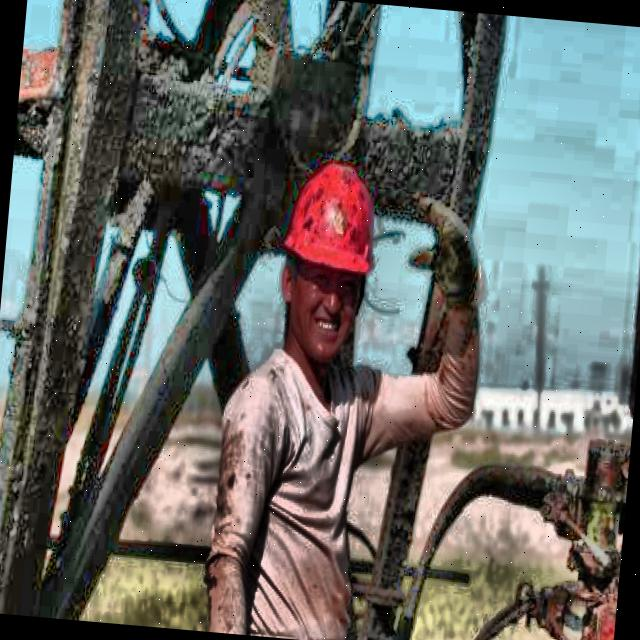helmet: (263, 136, 394, 375)
